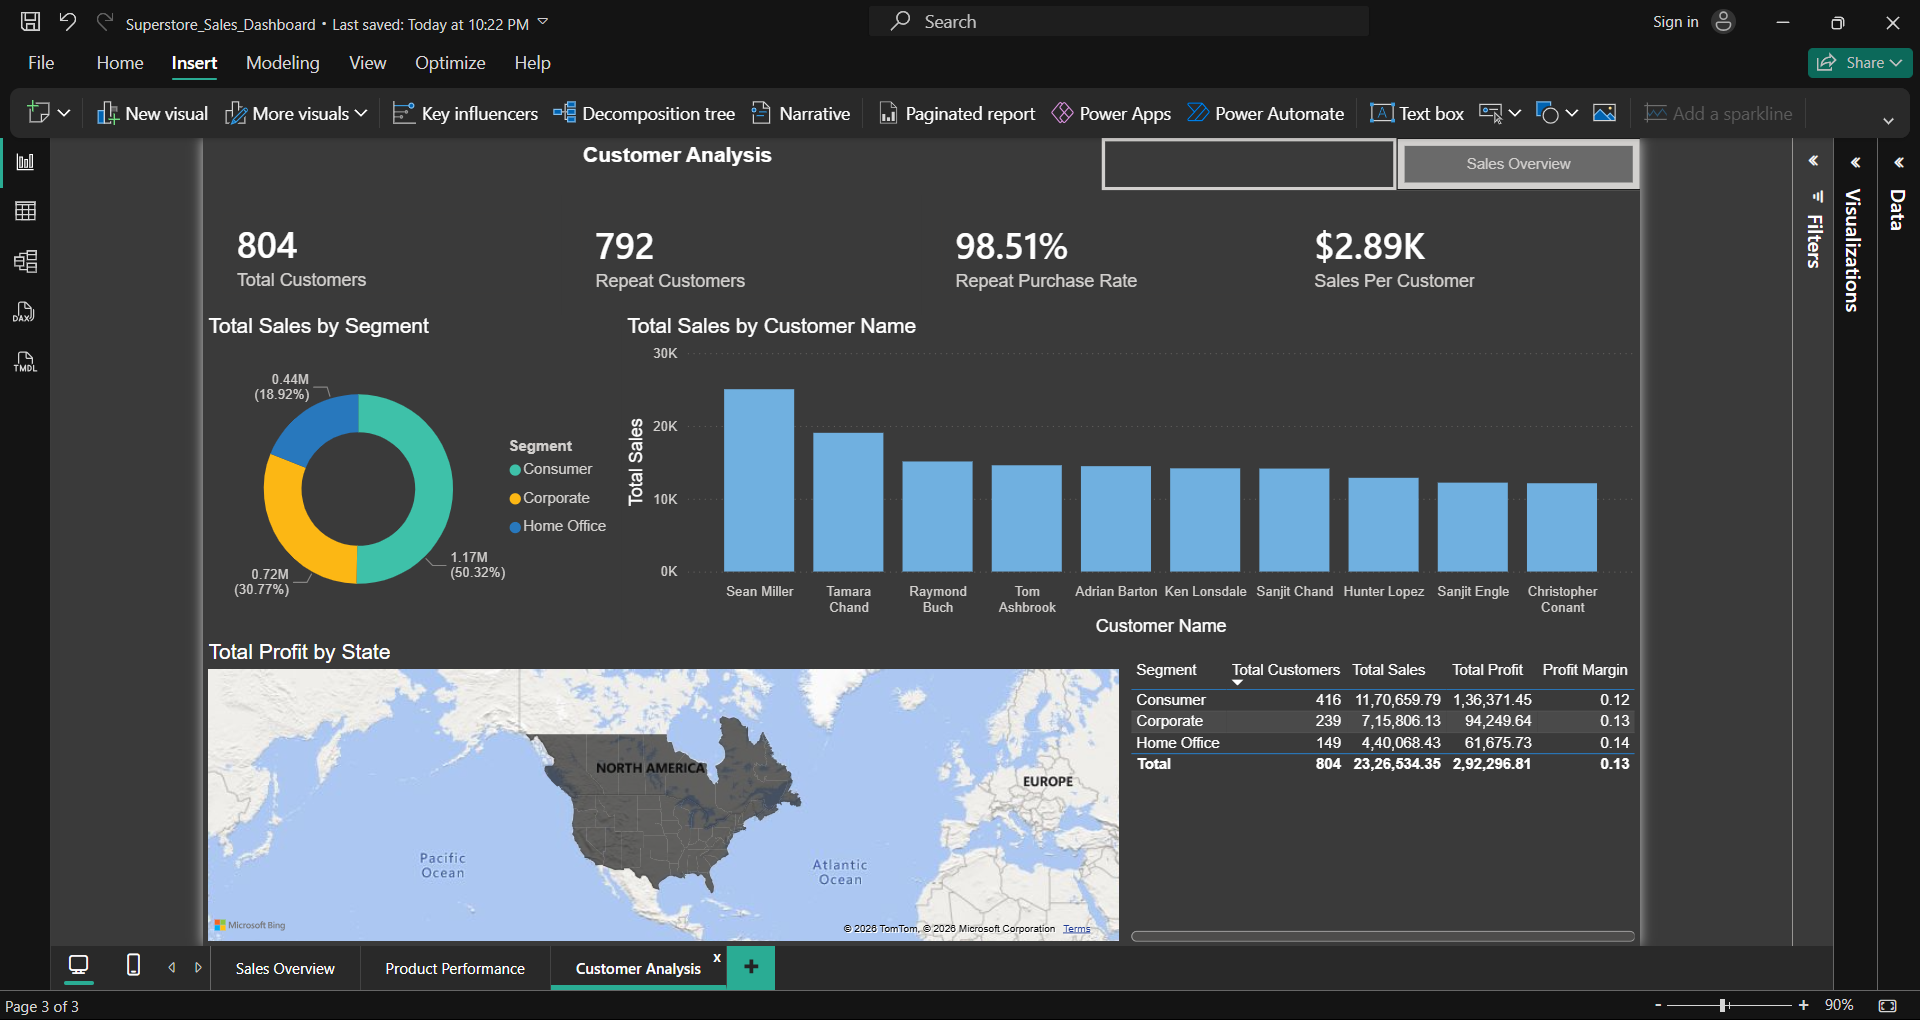

What the dashboard file says about the page in this screenshot:
{"tool":"powerbi","page":{"name":"Customer Analysis","canvas":[1280,720],"ordinal":2},"visuals":[{"type":"cardVisual","fields":{"Data":["Orders.Total Customer"]},"box":[0,50.3,319.9,106.6],"z":0},{"type":"textbox","box":[0,0,845.4,50.3],"z":2000},{"type":"cardVisual","fields":{"Data":["Date Table.Repeat Customers"]},"box":[319.9,50.8,319.9,106.2],"z":4000},{"type":"cardVisual","fields":{"Data":["Date Table.Repeat Purchase Rate"]},"box":[639.8,50.8,319.9,106.2],"z":5000},{"type":"cardVisual","fields":{"Data":["Date Table.Sales Per Customer"]},"box":[959.6,50.8,319.9,106.2],"z":6000},{"type":"donutChart","fields":{"Y":["Orders.Total Sales"],"Category":["Orders.segment"]},"box":[0,156.9,373.1,290.9],"z":7000},{"type":"clusteredColumnChart","fields":{"Category":["Orders.customer_name"],"Y":["Orders.Total Sales"]},"box":[373.1,156.9,906.7,290.9],"z":8000},{"type":"tableEx","fields":{"Values":["Orders.segment","Orders.Total Customer","Orders.Total Sales","Orders.Total Profit","Orders.Profit Margin"]},"box":[820.6,459.7,459.7,260.7],"z":9000},{"type":"filledMap","title":"Total Profit by State","fields":{"Category":["Orders.state"]},"box":[0,447.3,820.6,273.1],"z":10000},{"type":"actionButton","title":"Sales Overview","box":[800,0,262.6,46.6],"z":10001},{"type":"actionButton","title":"Customer Analysis","box":[1062.6,0,217.2,46.6],"z":10002}]}

Visuals, with their boxes on the page's 1280x720 design canvas (x1, y1, x2, y2). These are canvas units, not pixel positions in the 1920x1020 screenshot, which may show the page scaled, cropped or inside an application window:
cardVisual - Orders.Total Customer: crop(0, 50, 320, 157)
textbox: crop(0, 0, 845, 50)
cardVisual - Date Table.Repeat Customers: crop(320, 51, 640, 157)
cardVisual - Date Table.Repeat Purchase Rate: crop(640, 51, 960, 157)
cardVisual - Date Table.Sales Per Customer: crop(960, 51, 1280, 157)
donutChart - Orders.Total Sales x Orders.segment: crop(0, 157, 373, 448)
clusteredColumnChart - Orders.customer_name x Orders.Total Sales: crop(373, 157, 1280, 448)
tableEx - Orders.segment x Orders.Total Customer: crop(821, 460, 1280, 720)
"Total Profit by State" filledMap: crop(0, 447, 821, 720)
"Sales Overview" actionButton: crop(800, 0, 1063, 47)
"Customer Analysis" actionButton: crop(1063, 0, 1280, 47)
